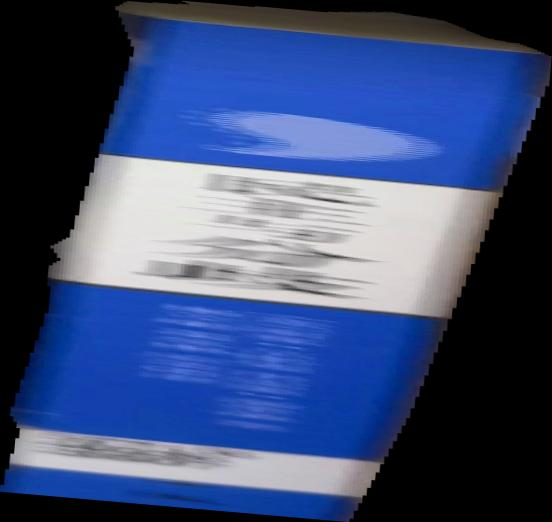book: (1, 1, 552, 522)
